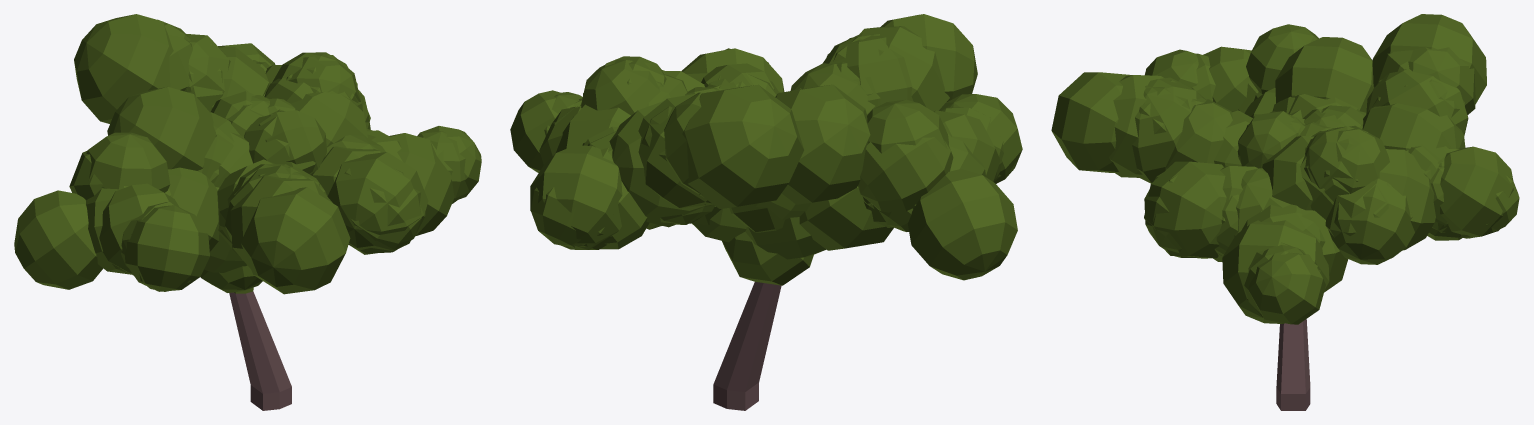
File: pohon3.fbx
3 renders of one model, left to right at view 1: azimuth 30°, elevation 25°; view 2: azimuth 150°, elevation 25°; view 3: azimuth 270°, elevation 25°, orthographic. The views are drawn at different scales.
Parts seen in each view (by area): view 1: Cube; view 2: Cube; view 3: Cube.
Part boxes in pixels (x1=…): Cube: x1=14, y1=14, x2=481, y2=410; Cube: x1=510, y1=14, x2=1022, y2=410; Cube: x1=1051, y1=14, x2=1519, y2=410.
Bounding box in the file's own units: 639 × 477 × 580.
